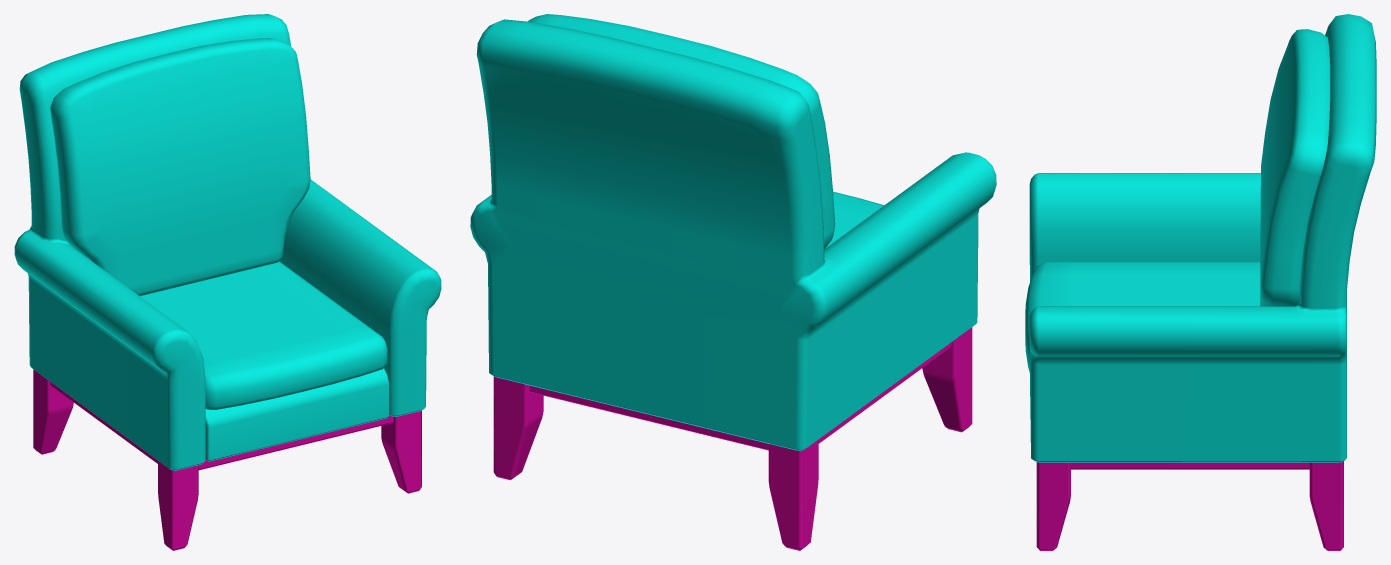
Rendered from FBX_Chair_2.fbx.
3 views of the same model, side by side, from view 1: azimuth 30°, elevation 25°; view 2: azimuth 150°, elevation 25°; view 3: azimuth 270°, elevation 25° (orthographic). The views are drawn at different scales.
Parts seen in each view (by area): view 1: Cube.018; view 2: Cube.018; view 3: Cube.018.
Part boxes in pixels (<box>): Cube.018: <box>14,14,441,550</box>; Cube.018: <box>470,14,996,550</box>; Cube.018: <box>1025,14,1376,550</box>.
Size of the model in its own units: 102 by 129 by 98.87.
